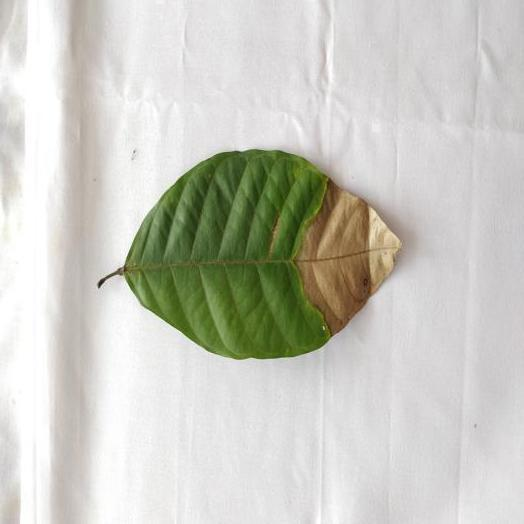Potassium: (98, 149, 400, 359)
